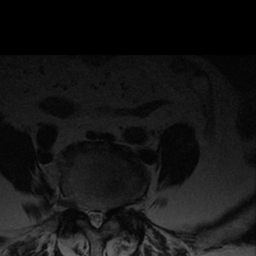CCS_severe_stenosis: (92, 200, 98, 237)
LFS_severe_stenosis: (106, 198, 115, 222)
LLS_severe_stenosis: (98, 203, 106, 230)
RFS_stenosis: (76, 197, 84, 224)
RLS_severe_stenosis: (85, 201, 91, 230)
